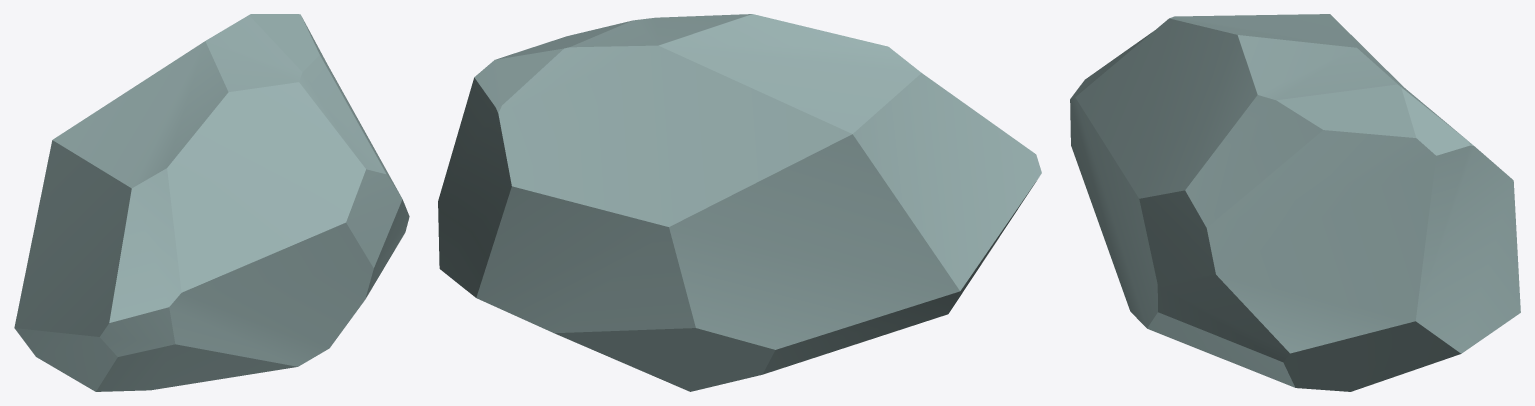
The model's file is rock1.fbx.
3 views of the same model, side by side, from view 1: azimuth 30°, elevation 25°; view 2: azimuth 150°, elevation 25°; view 3: azimuth 270°, elevation 25° (orthographic). The views are drawn at different scales.
Visible parts, largest first — view 1: rock1; view 2: rock1; view 3: rock1.
Part boxes in pixels (x1,y1,x2,y2): rock1: (14,14,409,391); rock1: (438,14,1041,391); rock1: (1070,14,1520,391).
Size of the model in its own units: 1688 by 1172 by 1480.
